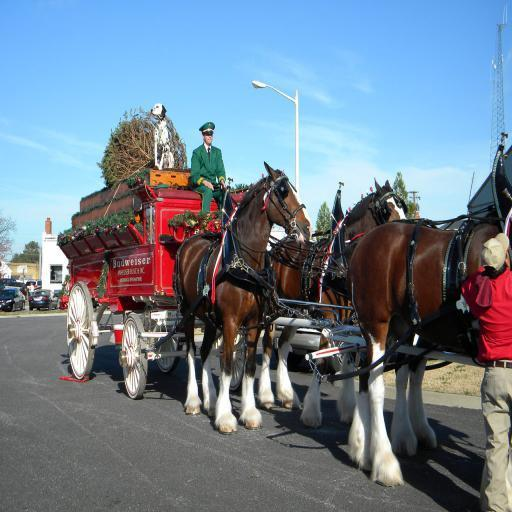horse: (346, 220, 512, 490), (173, 160, 312, 432), (262, 176, 408, 428)
